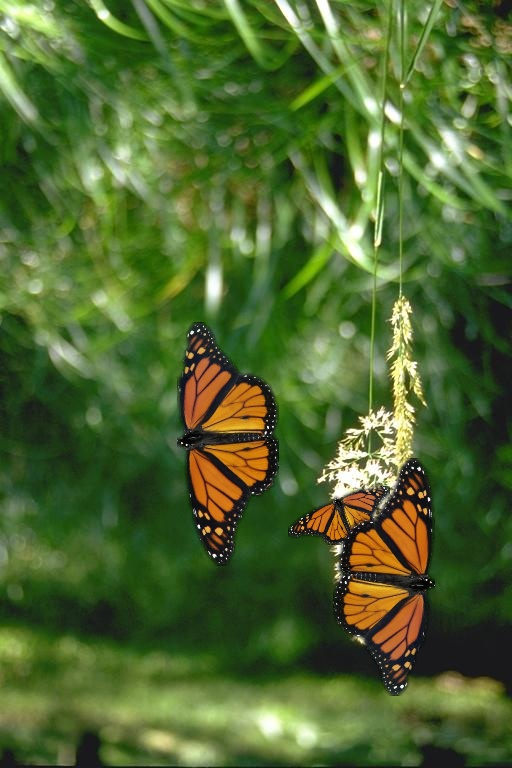danaus_plexippus: (177, 322, 279, 566), (333, 458, 435, 696), (288, 486, 390, 545)
